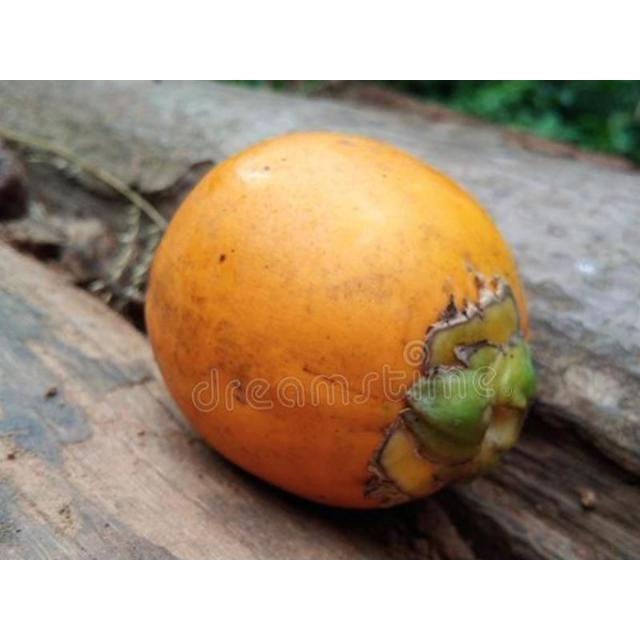good: (143, 132, 538, 513)
